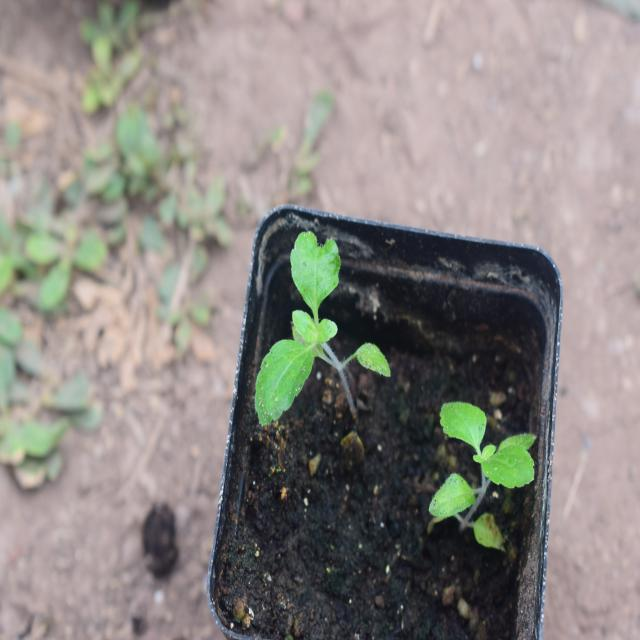billygoat_weed: (252, 204, 404, 422), (434, 388, 540, 564)
